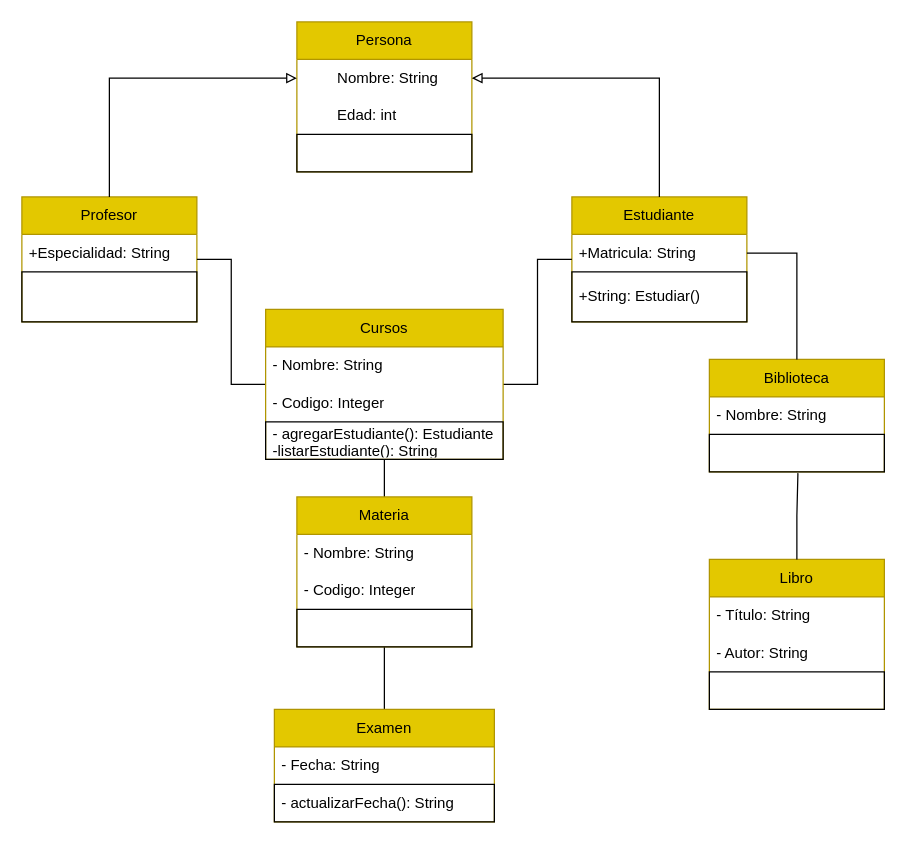
This 906x844 diagram has some shape labels left out. The shapes that lost their labels are listed below. From the top down, each one's centre as x and y in pixels, then its label:
the point at 384,152: String: saludar()
the point at 109,296: +String: Enseñar()
the point at 796,452: - registrarLibro(): String -listarLibros(): String
the point at 384,627: - getNombre(): String - getCodigo(): Integer
the point at 796,690: - Detalles(): String
